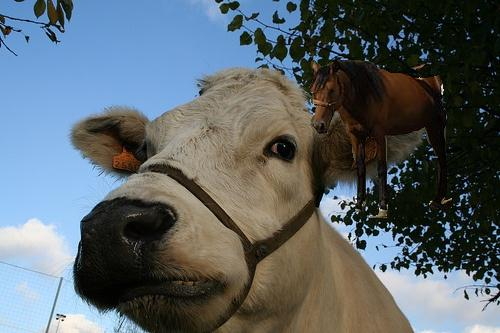tampered: (310, 61, 452, 218)
